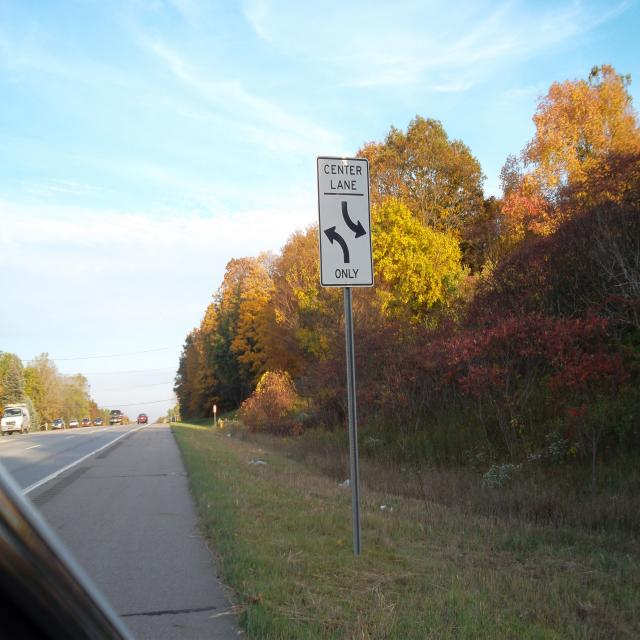regulatory: (313, 152, 376, 290)
